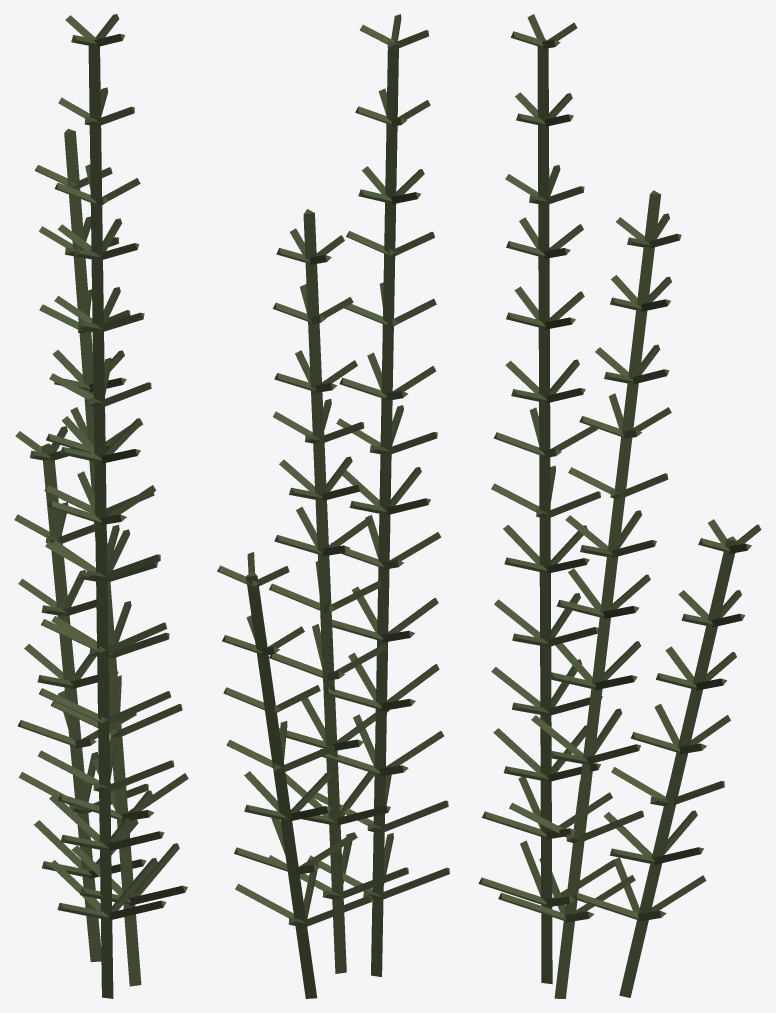
The model's file is lb_milfoil_A.fbx.
The picture shows the model from 3 angles, left to right: view 1: azimuth 30°, elevation 25°; view 2: azimuth 150°, elevation 25°; view 3: azimuth 270°, elevation 25°; orthographic projection. The views are drawn at different scales.
Parts seen in each view (by area): view 1: lb_milfoil_A_export; view 2: lb_milfoil_A_export; view 3: lb_milfoil_A_export.
Boxes of the visible parts, x1,y1,x2,y2 form: lb_milfoil_A_export: (14,14,188,998); lb_milfoil_A_export: (217,14,449,998); lb_milfoil_A_export: (478,14,761,998).
Size of the model in its own units: 18.15 by 109 by 29.54.
